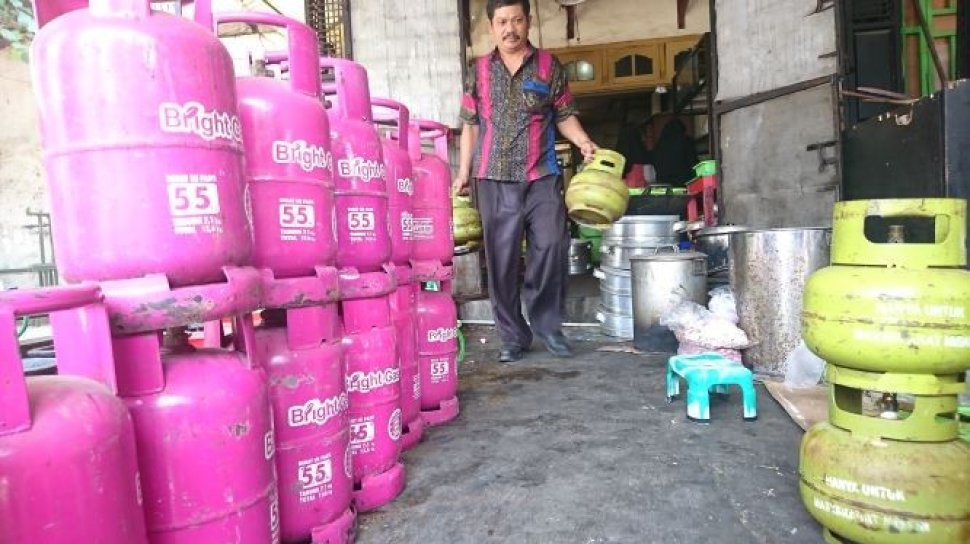bright_gas: (35, 1, 257, 289), (191, 12, 334, 297), (112, 304, 272, 544), (1, 287, 144, 544), (233, 293, 357, 544), (272, 53, 392, 294), (369, 92, 452, 281), (340, 286, 405, 508), (394, 264, 460, 448)
gas_ijo: (805, 196, 970, 392), (801, 385, 970, 544), (562, 152, 639, 232), (453, 187, 482, 258)
